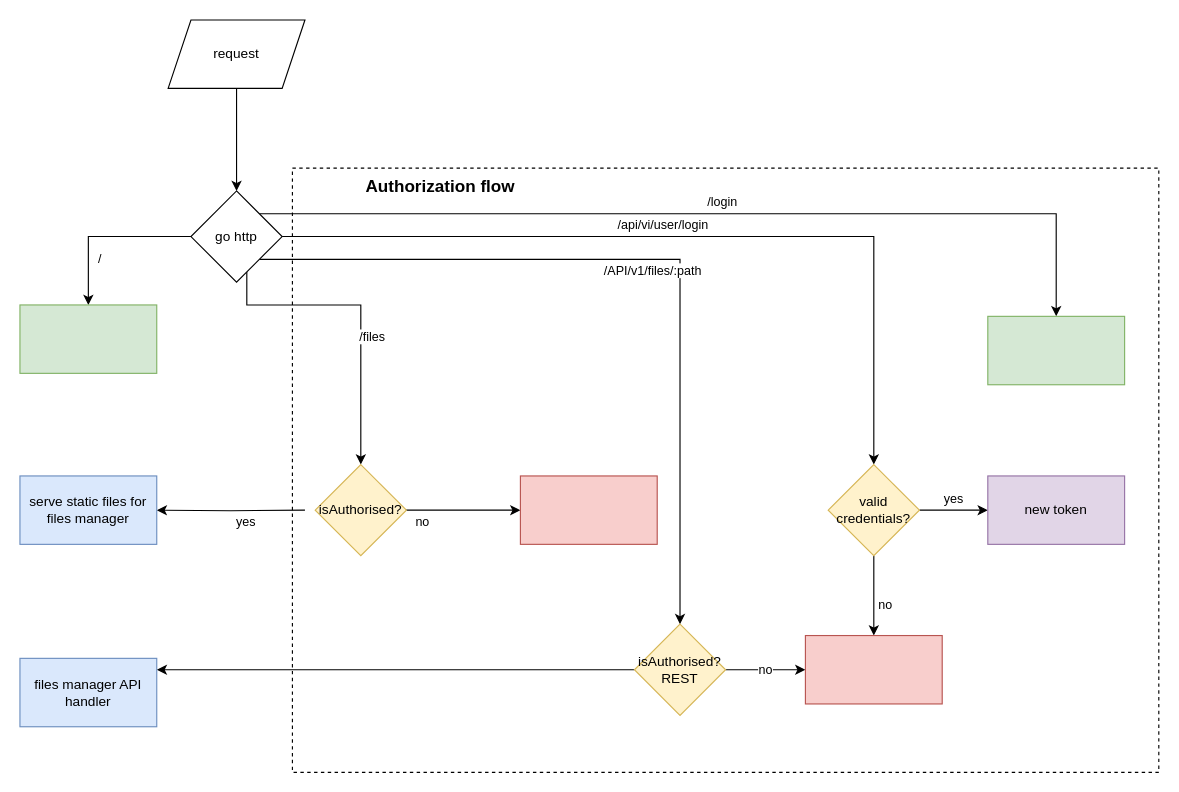
Some shapes in this 1179 by 792 pixel diagram are drawn without their labels. The centre of each missing label's shape, as x and y in pixels:
"401 response" goes at (873,669).
"redirect to /files (there are no home)" goes at (88,338).
"redirect to /login" goes at (588,509).
"serve login static resources" goes at (1056,350).
